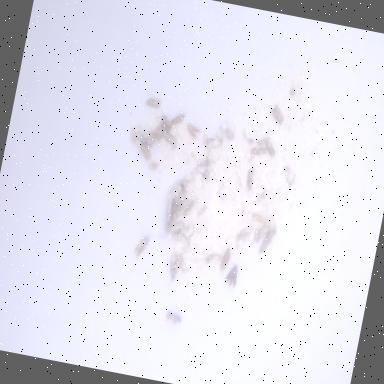pbw: (218, 246, 233, 278), (132, 234, 150, 260), (280, 165, 298, 190), (150, 120, 166, 145), (234, 223, 252, 244), (268, 103, 286, 123), (259, 231, 273, 255), (169, 111, 186, 130), (164, 310, 184, 326), (254, 224, 270, 243), (174, 255, 190, 274), (254, 187, 269, 207), (216, 180, 230, 201), (184, 122, 201, 139), (244, 168, 256, 192), (263, 140, 278, 158), (249, 144, 268, 158), (161, 129, 177, 145), (138, 144, 154, 160), (168, 258, 179, 280), (145, 96, 162, 110), (195, 202, 208, 220), (256, 134, 272, 148), (160, 116, 174, 132), (205, 136, 223, 148), (250, 212, 266, 225), (184, 198, 194, 218), (224, 127, 237, 140), (140, 138, 154, 146)
